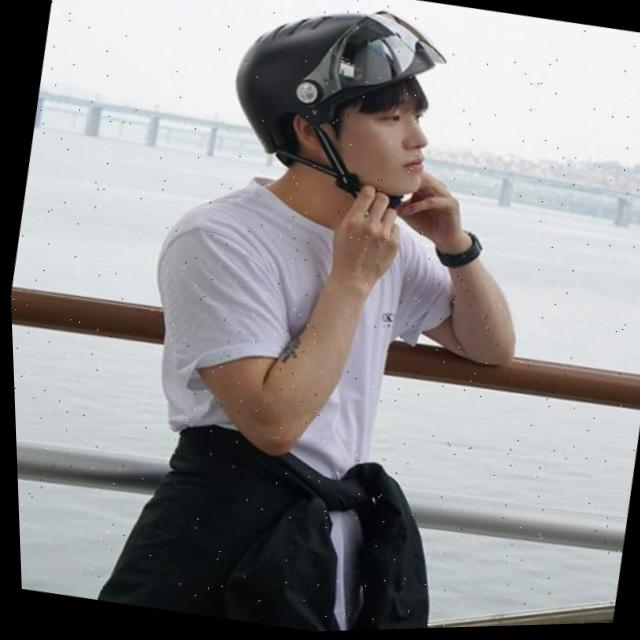helmet: (214, 0, 463, 225)
